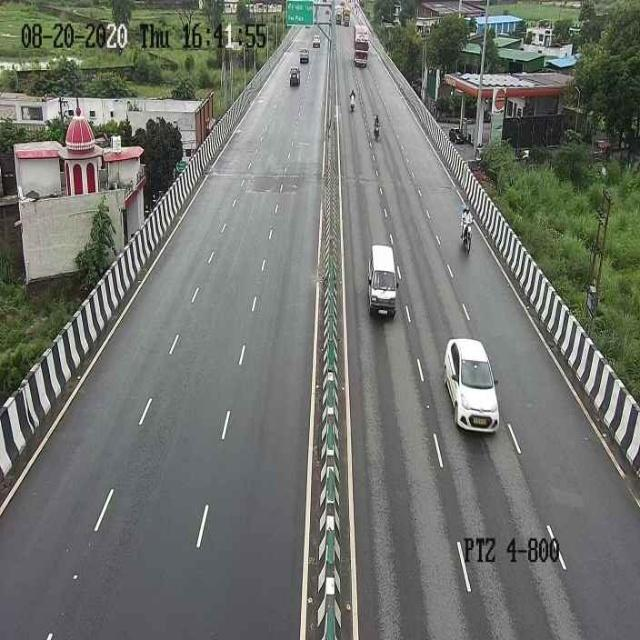car: (441, 332, 504, 435)
